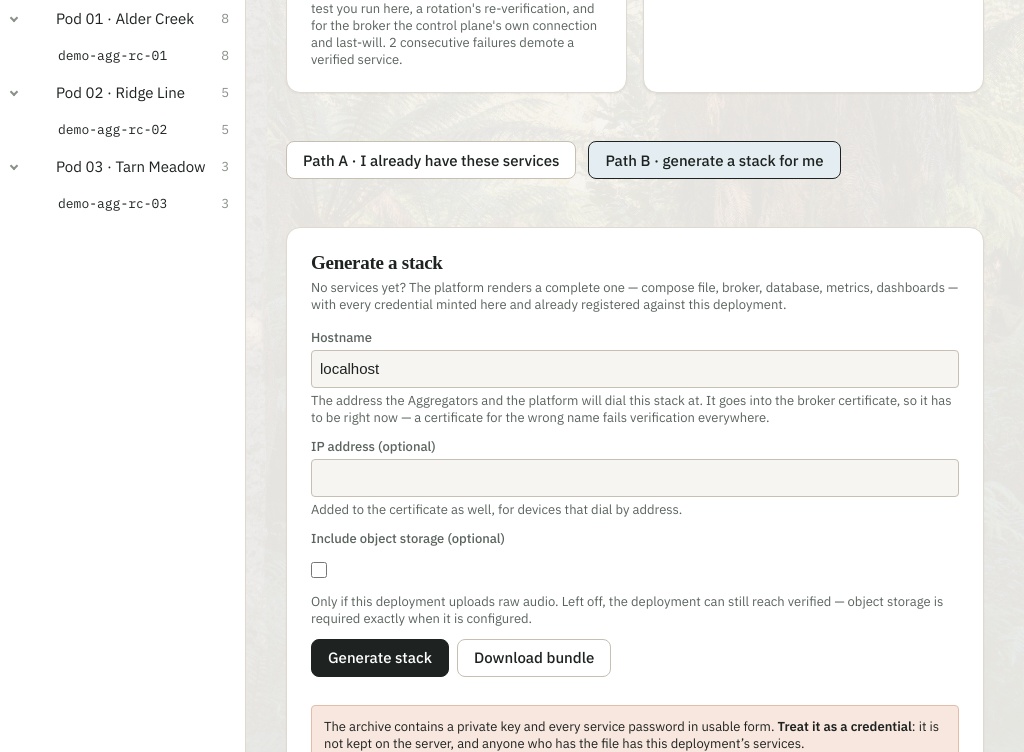
it: generating a stack › sends the operator's choices and reports that nothing is verified yet
(page scrolled)
Replace the text in the field labelled "Hostname" with "kvm-01.example.org". click: point(635, 369)
box: left=311, top=350, right=959, bottom=388
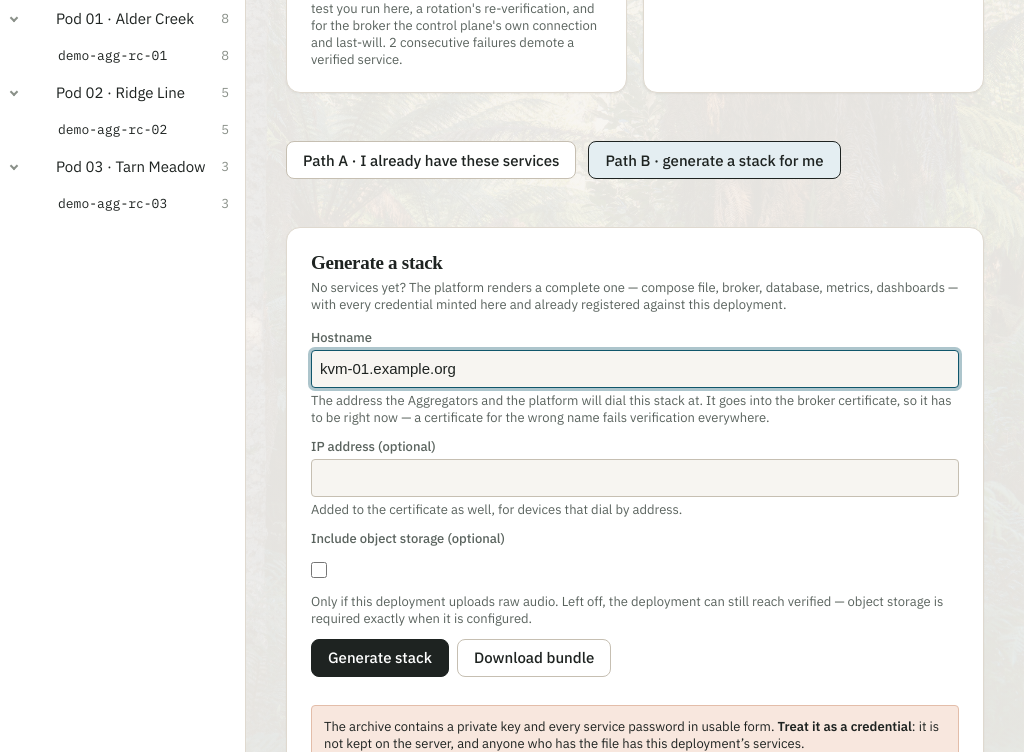
Type "10.0.0.4" into the field labelled "IP address (optional)". click: point(635, 478)
box: left=311, top=459, right=959, bottom=497
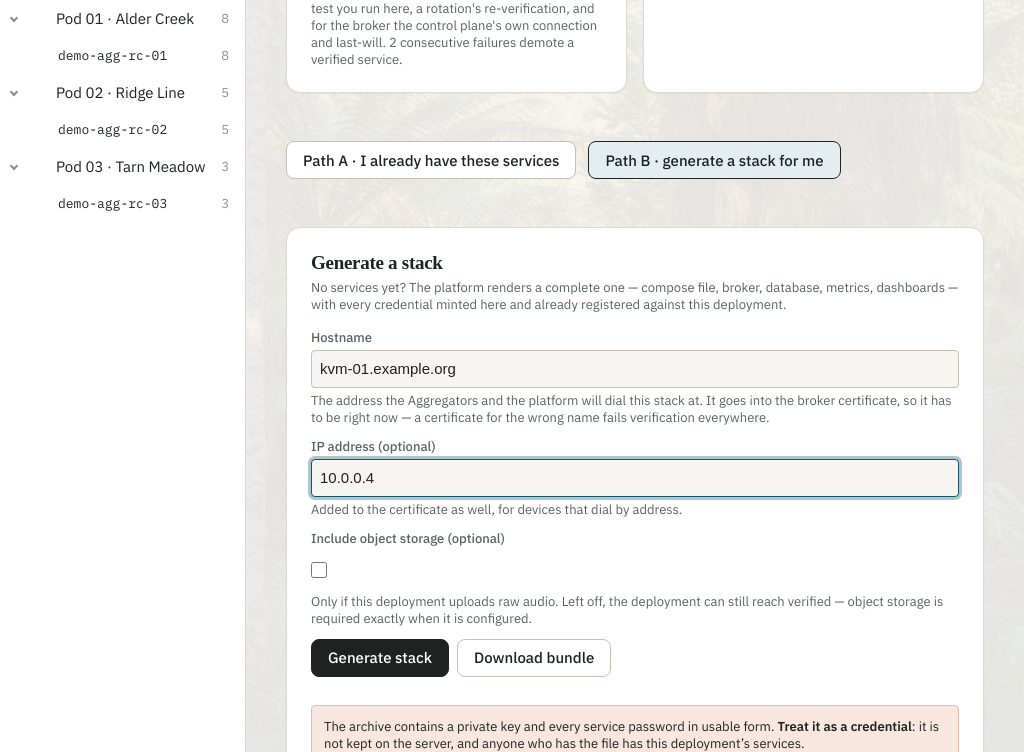
Click the checkbox labelled "Include object storage (optional)". click: point(319, 570)
box: left=311, top=551, right=327, bottom=589
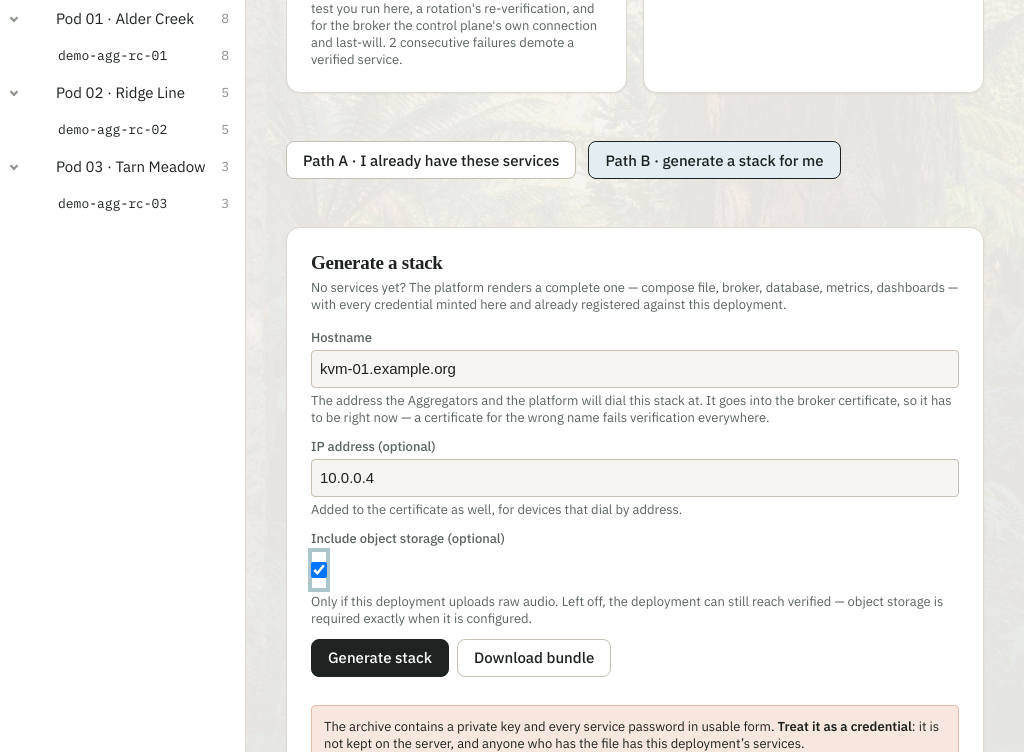
Click the button "Generate stack". click: point(380, 658)
box: left=311, top=639, right=449, bottom=677
(page scrolled)
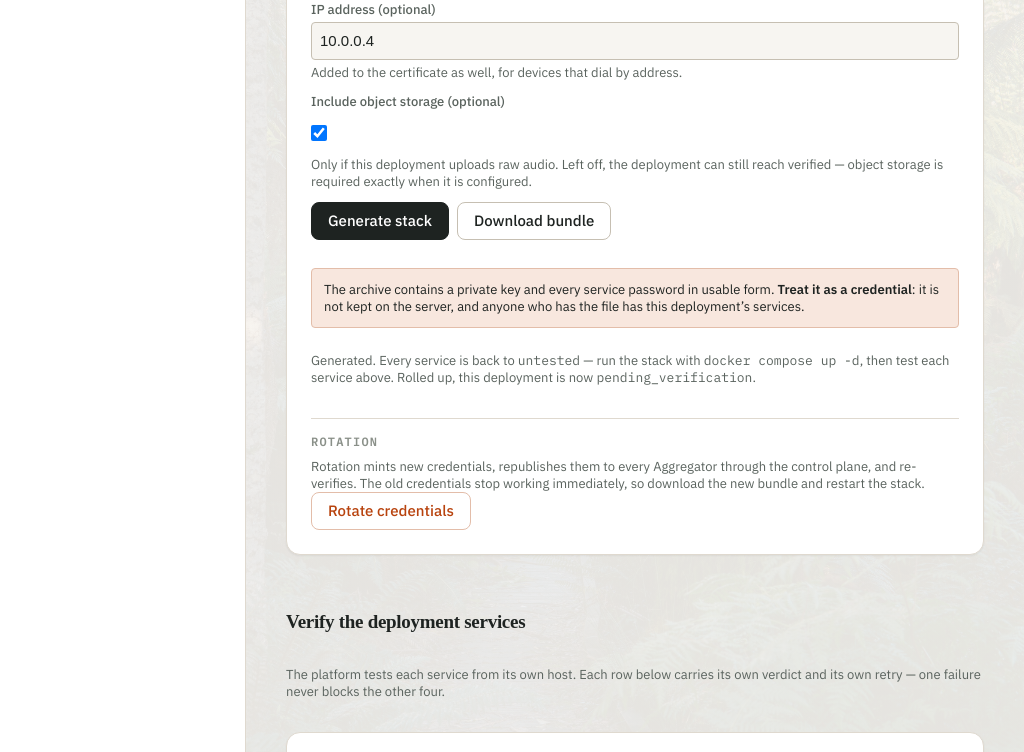
Expected: the element with test id "stack-generated" shows "untested", left=518, top=352, right=580, bottom=369
Expected: the element with test id "stack-generated" shows "pending_verification", left=596, top=369, right=752, bottom=386
